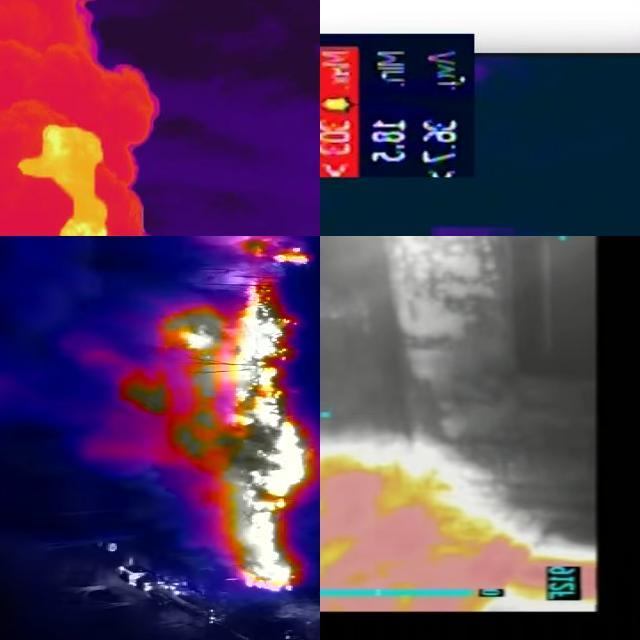fire: (154, 277, 317, 590), (321, 460, 598, 614), (17, 119, 123, 238), (247, 237, 316, 267)
